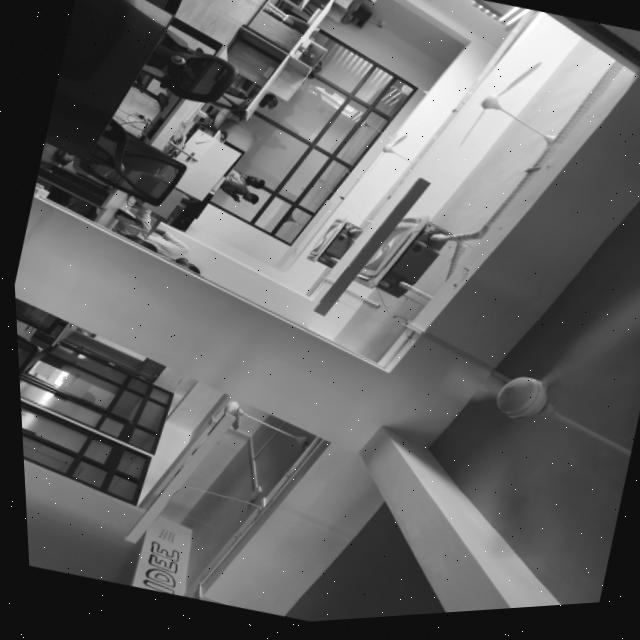light_off: (291, 154, 443, 344), (106, 387, 246, 569)
